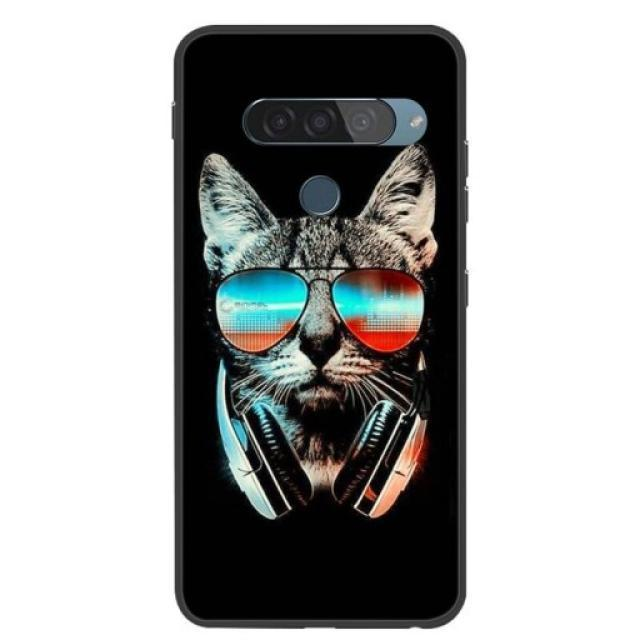phone: (166, 19, 470, 630)
